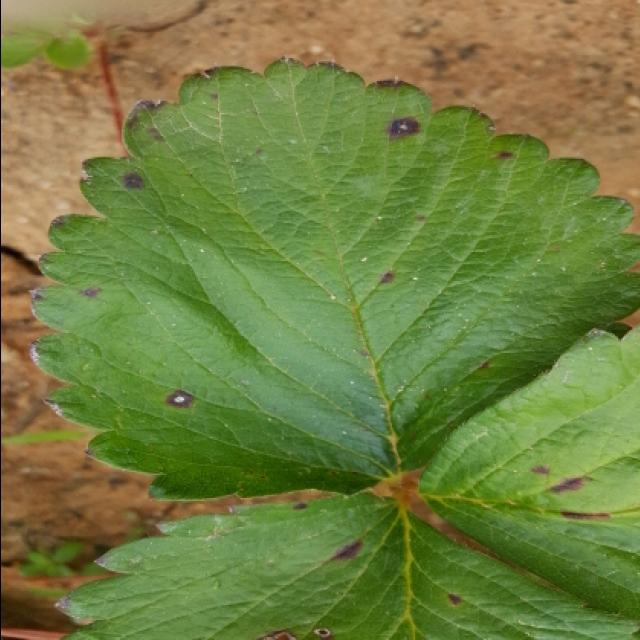Leaf Spot: (26, 56, 640, 502), (51, 488, 639, 640), (416, 324, 640, 626)
